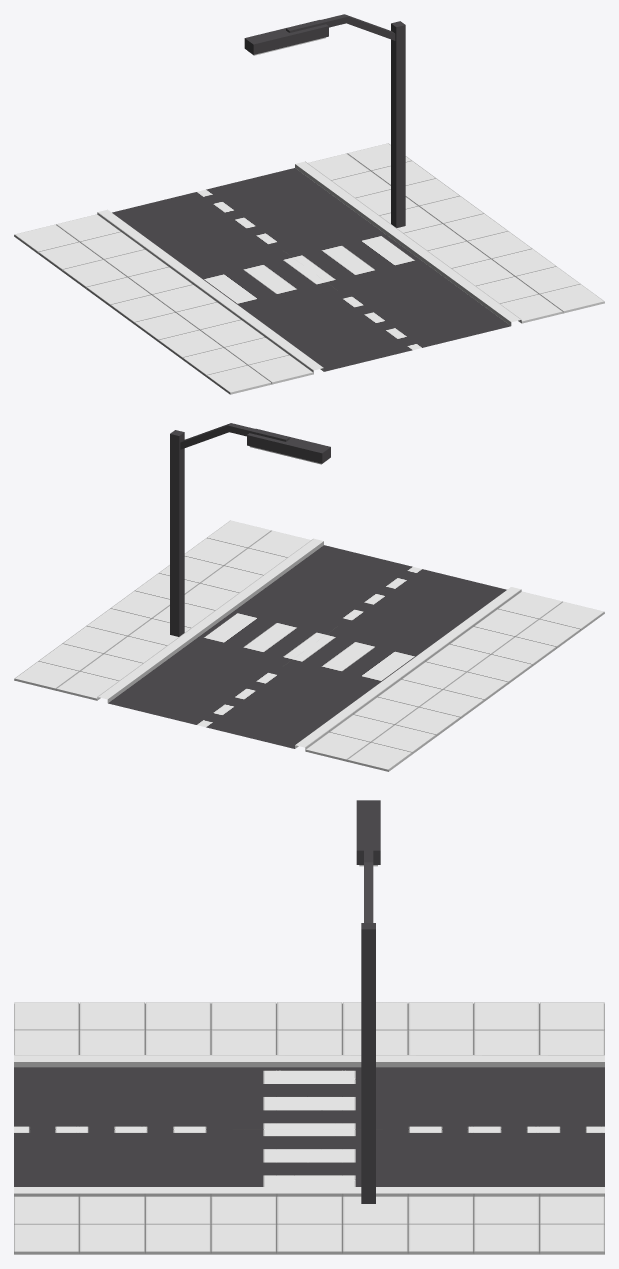
File: RoadB.fbx
The picture shows the model from 3 angles, top to bottom: view 1: azimuth 30°, elevation 25°; view 2: azimuth 150°, elevation 25°; view 3: azimuth 270°, elevation 25°; orthographic projection. The views are drawn at different scales.
Parts seen in each view (by area): view 1: Road_B; view 2: Road_B; view 3: Road_B.
Boxes of the visible parts, x1=… form: Road_B: x1=14, y1=14, x2=604, y2=394; Road_B: x1=14, y1=423, x2=604, y2=771; Road_B: x1=14, y1=800, x2=604, y2=1254.
Bounding box in the file's own units: 2000 × 1144 × 2000.
